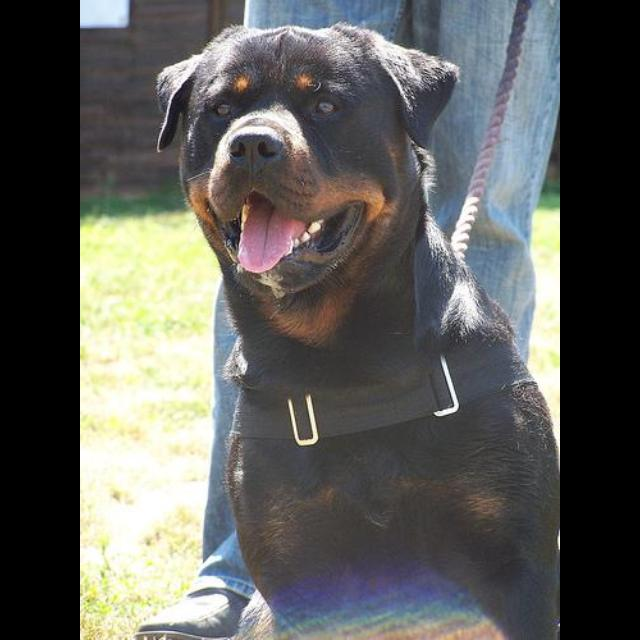rottweiler: (152, 22, 560, 640)
